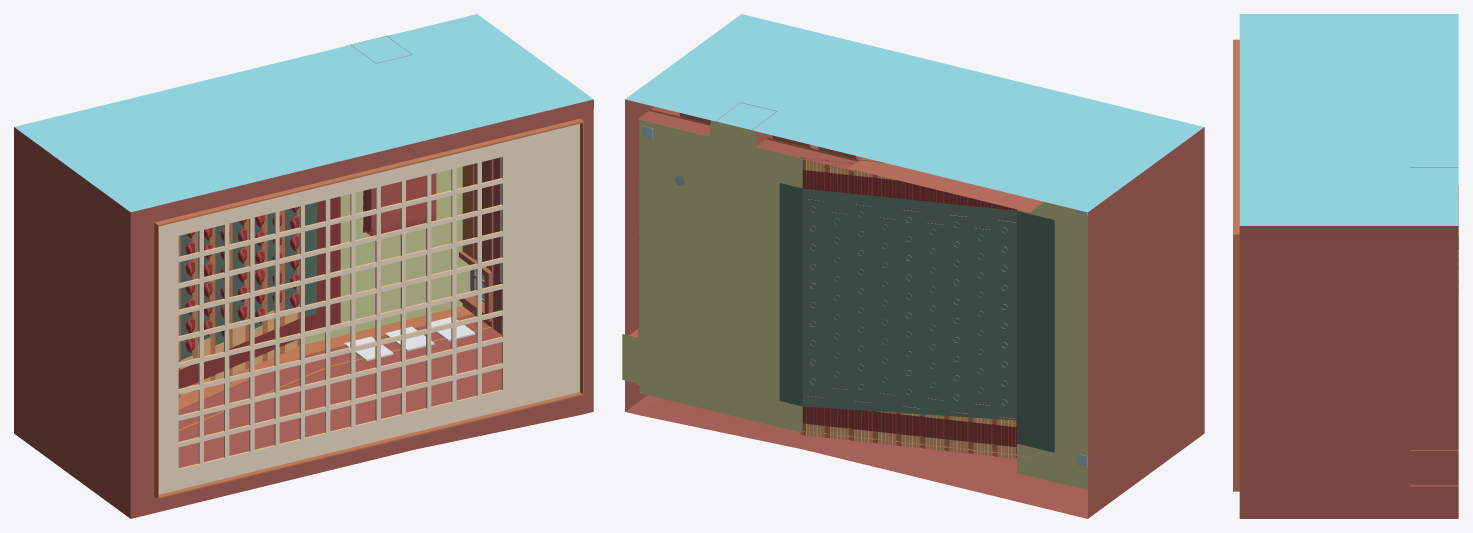
File: Room_Conf_Modulable.glb
3 views of the same model, side by side, from view 1: azimuth 30°, elevation 25°; view 2: azimuth 150°, elevation 25°; view 3: azimuth 270°, elevation 25° (orthographic). The views are drawn at different scales.
Parts seen in each view (by area): view 1: Murs, Plafond, HM_Sol, HM_Marches, Moulures, Table, Fauteuils_rangs_pairs, Fauteuil_Rangs_impairs, Partenariat_cour, Porte.001; view 2: HM_Sol, Murs, HM_Marches, Moulures; view 3: Murs, Moulures.
Part boxes in pixels (bbox=[...]): Murs: bbox=[14, 14, 593, 518]; Plafond: bbox=[159, 124, 579, 494]; HM_Sol: bbox=[180, 35, 470, 360]; HM_Marches: bbox=[178, 196, 340, 397]; Moulures: bbox=[154, 118, 583, 498]; Table: bbox=[363, 173, 436, 236]; Fauteuils_rangs_pairs: bbox=[185, 206, 299, 352]; Fauteuil_Rangs_impairs: bbox=[204, 214, 281, 335]; Partenariat_cour: bbox=[344, 317, 475, 361]; Porte.001: bbox=[459, 251, 493, 321]; HM_Sol: bbox=[622, 119, 1087, 489]; Murs: bbox=[625, 14, 1204, 518]; HM_Marches: bbox=[800, 157, 1016, 458]; Moulures: bbox=[849, 158, 1043, 212]; Murs: bbox=[1239, 14, 1458, 518]; Moulures: bbox=[1233, 39, 1239, 491].
Bounding box in the file's own units: 27.38 × 17.58 × 12.27.
Materials: 1 (1 with a texture image).
